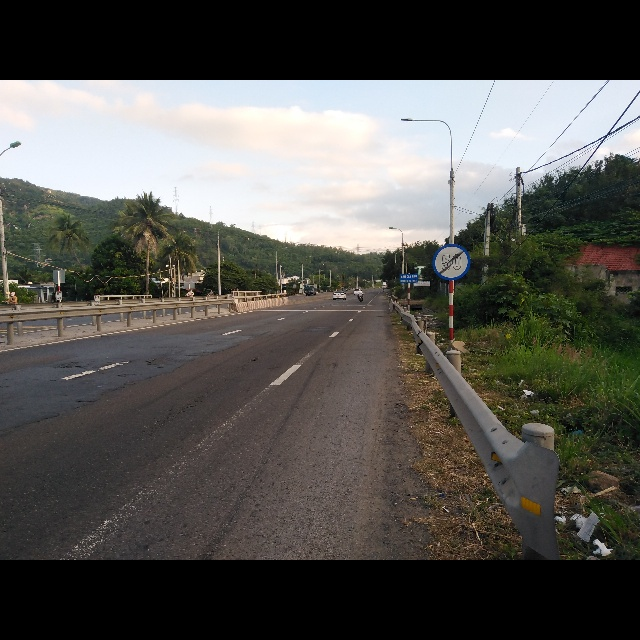Hết hạn chế tốc độ tối đa 50km/h: (432, 243, 472, 281)
